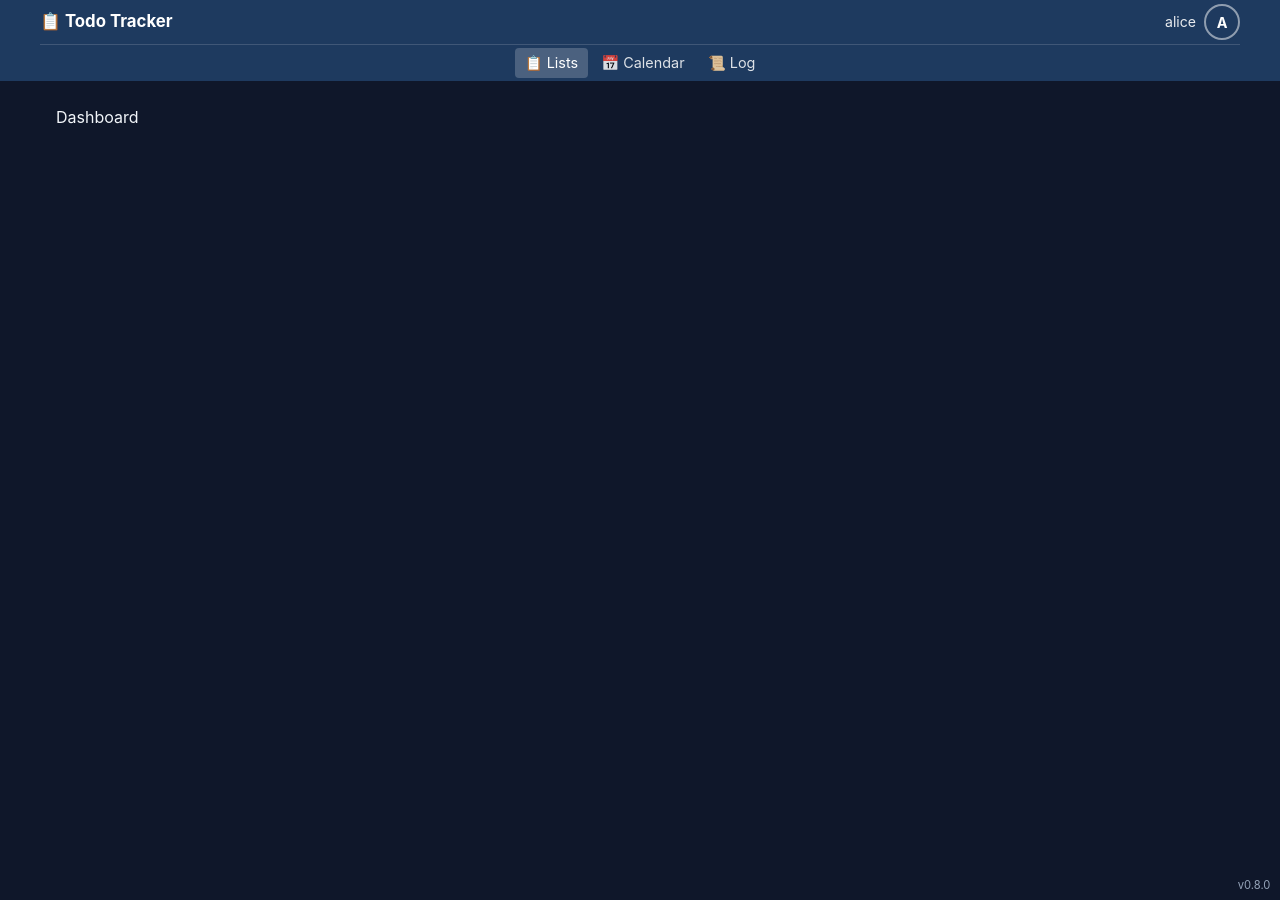
Test: App.vue › avatar dropdown shows admin-only Users and Lists links for admin user
Click the button with class "avatar-btn".
click(1222, 22)  # box [1204, 4, 1240, 40]
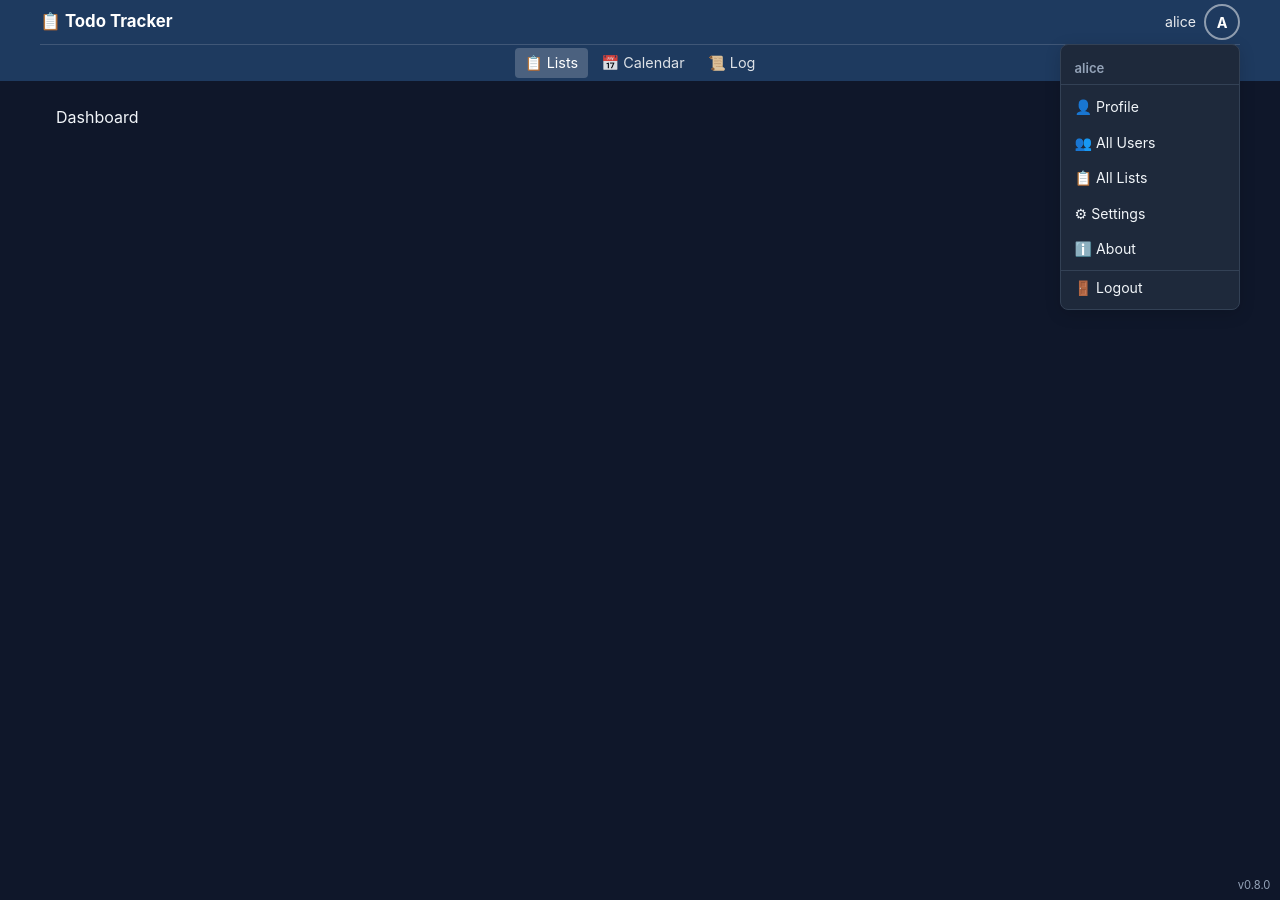
Result: the element with class "avatar-dropdown" shows "Users" at [1061, 124, 1239, 160]
Result: the element with class "avatar-dropdown" shows "Lists" at [1061, 160, 1239, 195]
